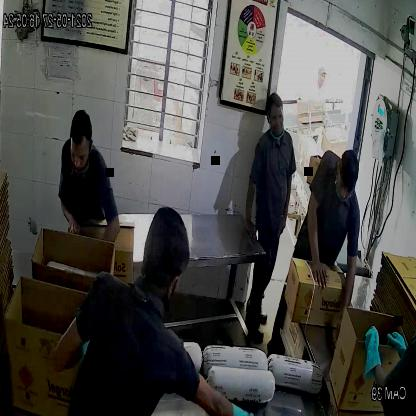no_goggles: (69, 144, 91, 168)
